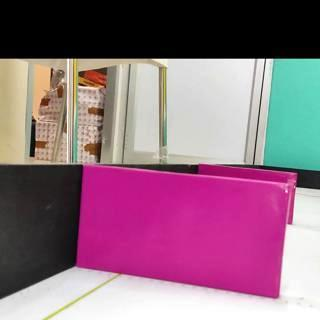xparking: (78, 167, 288, 300), (235, 171, 292, 177)
